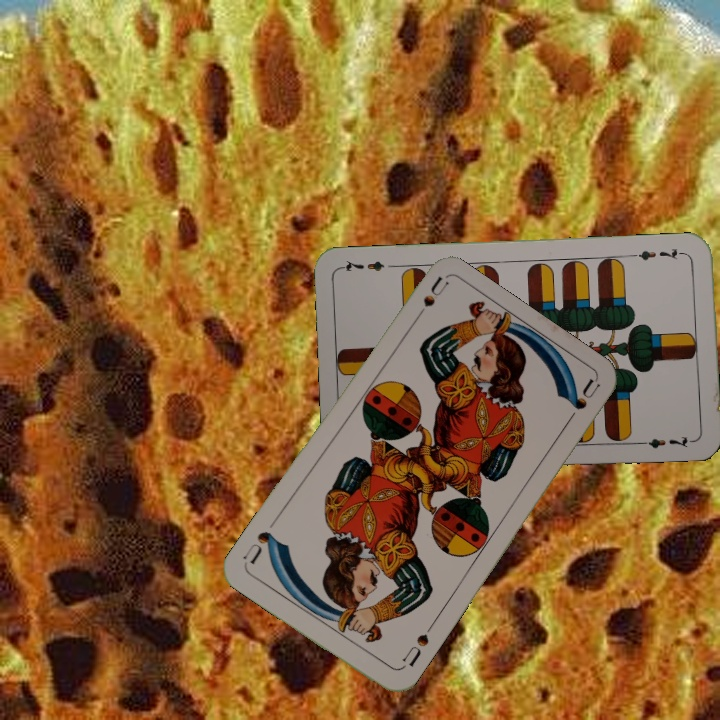E7: (628, 244, 688, 263)
SU: (407, 274, 451, 328), (398, 620, 436, 670)
